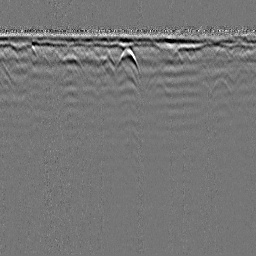cavity: (115, 46, 140, 73)
